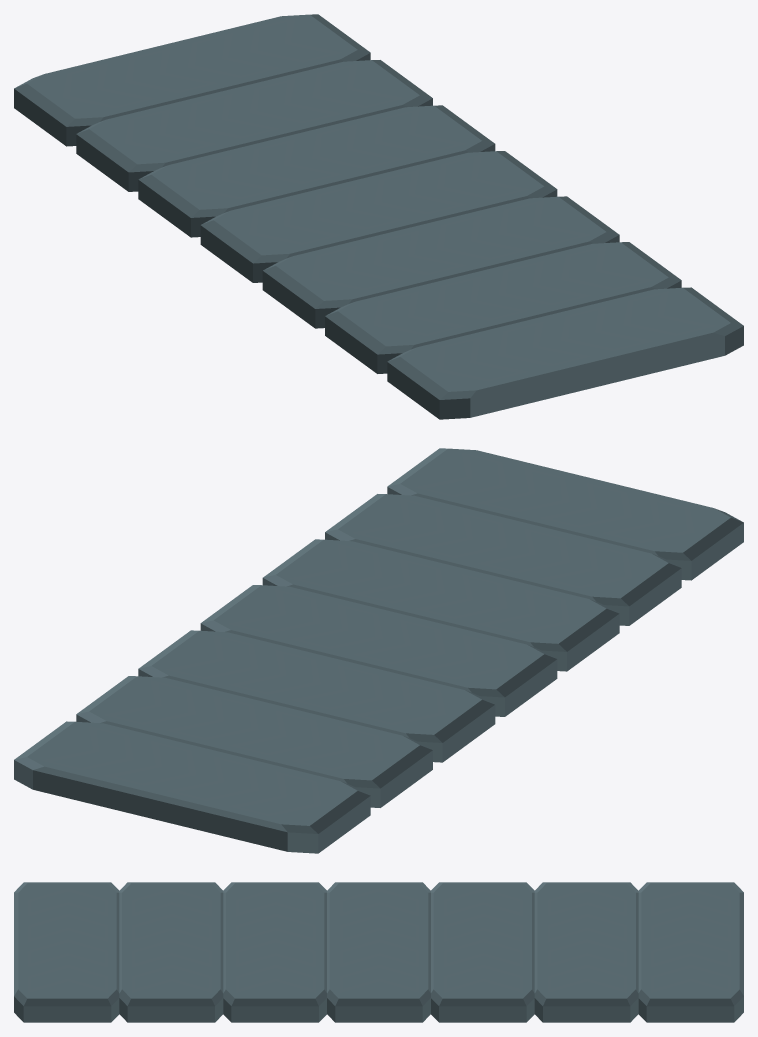
File: polystartgrid.glb
The picture shows the model from 3 angles, top to bottom: view 1: azimuth 30°, elevation 25°; view 2: azimuth 150°, elevation 25°; view 3: azimuth 270°, elevation 25°; orthographic projection. The views are drawn at different scales.
Visible parts, largest first — view 1: PolyStartGrid; view 2: PolyStartGrid; view 3: PolyStartGrid.
Part boxes in pixels (x1=…): PolyStartGrid: x1=14, y1=14, x2=743, y2=419; PolyStartGrid: x1=14, y1=448, x2=743, y2=853; PolyStartGrid: x1=14, y1=882, x2=743, y2=1022.
Size of the model in its own units: 1.41 by 0.1042 by 3.52.
Materials: 1 (1 with a texture image).
